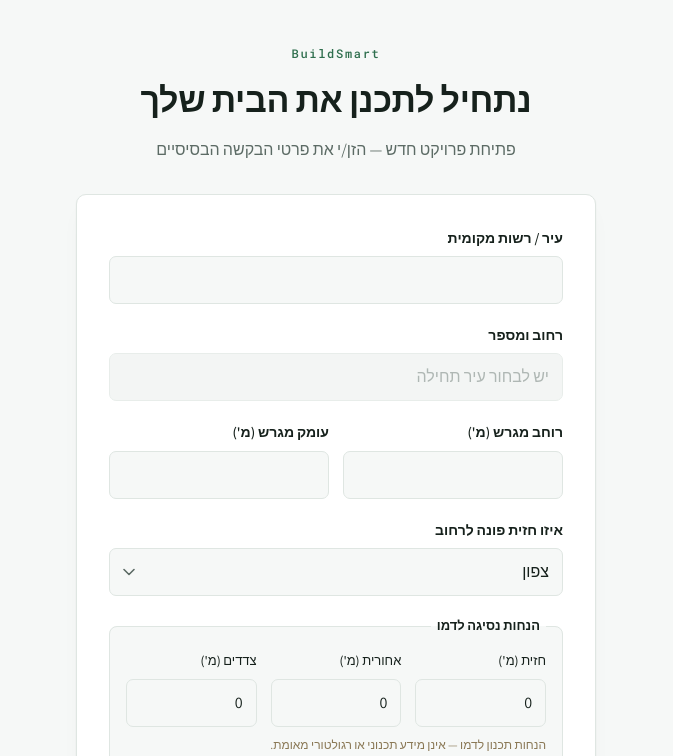
Scenario: App — brief + site -> the engine chooses the outline -> plan generation › going back to the description from REVIEW keeps everything the user entered
Type "תל אביב" into the dropdown labelled "עיר / רשות מקומית" at (336, 280), box [109,256,563,304]
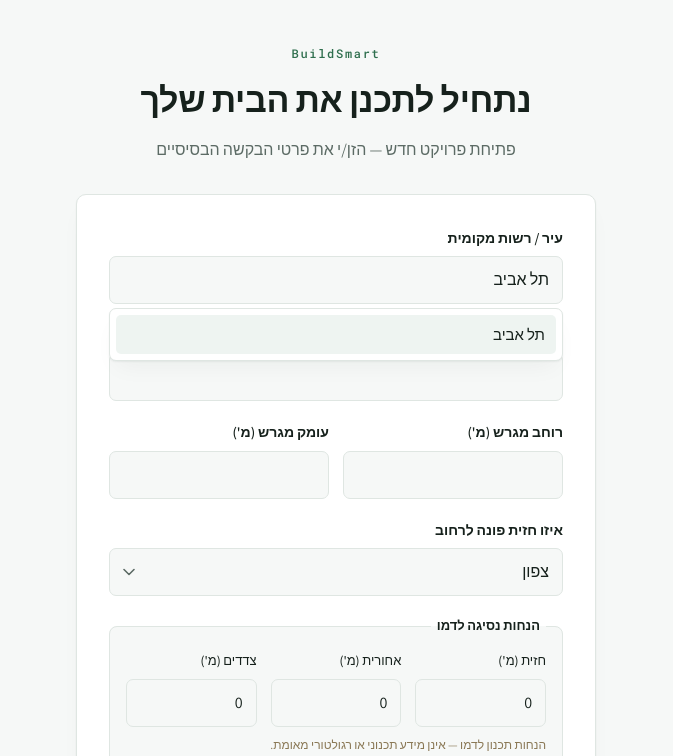
Result: the dropdown labelled "רחוב ומספר" is enabled
Type "הרצל 1" into the dropdown labelled "רחוב ומספר" at (336, 377), box [109,353,563,401]
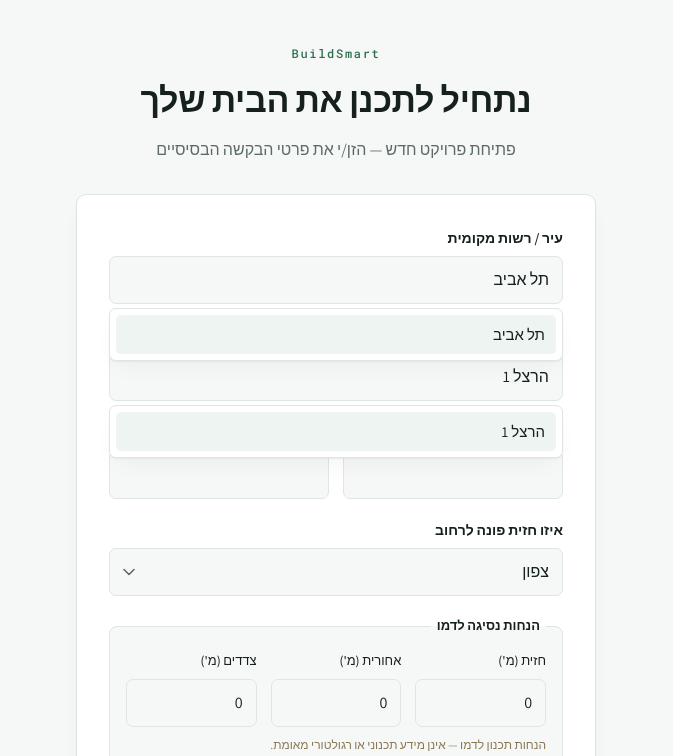
Type "30" into the number field labelled "רוחב מגרש (מ')" at (453, 475), box [343,451,563,499]
Type "34" into the number field labelled "עומק מגרש (מ')" at (219, 475), box [109,451,329,499]
(page scrolled)
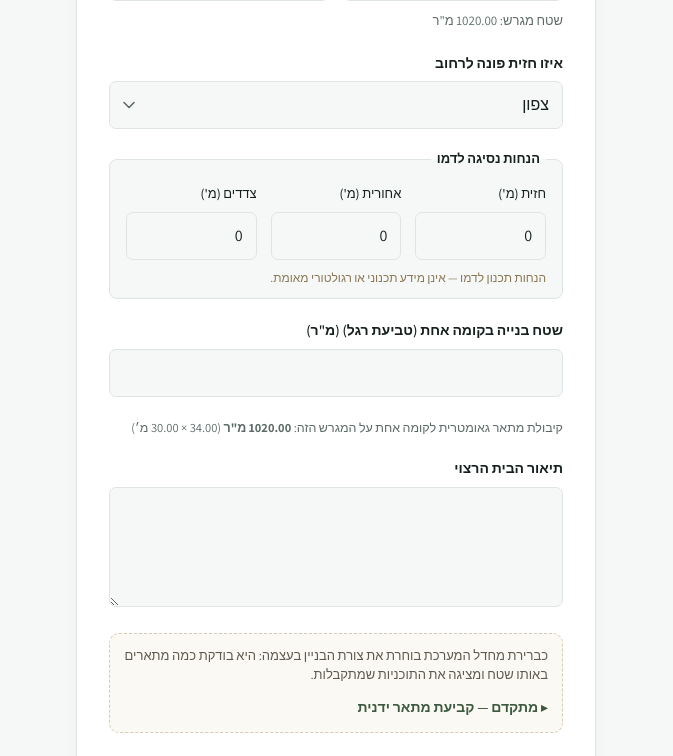
Type "120" into the number field labelled "שטח בנייה בקומה אחת (טביעת רגל) (מ\"ר)" at (336, 373), box [109,349,563,397]
Type "בית עם 3 חדרי שינה" into the text box labelled "תיאור הבית הרצוי" at (336, 547), box [109,487,563,607]
(page scrolled)
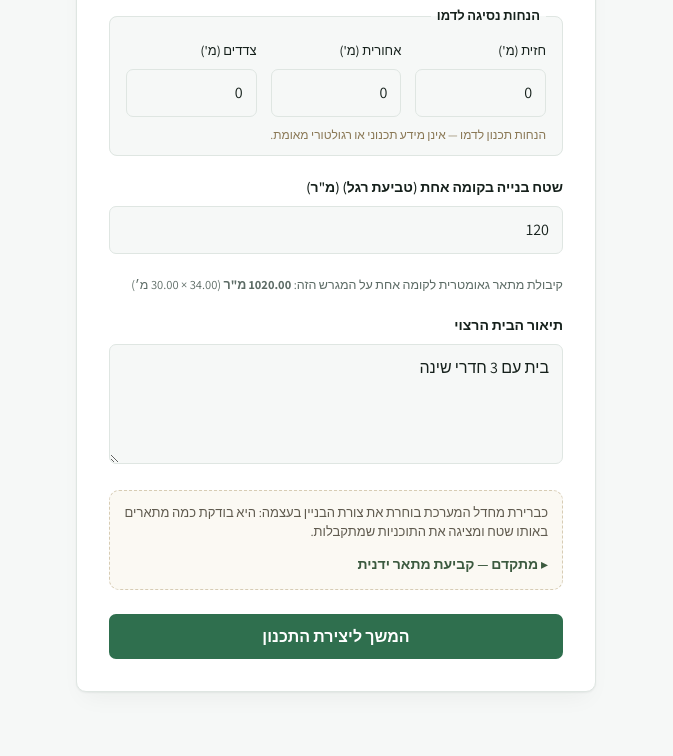
Click the button "המשך ליצירת התכנון" at (336, 636), box [109,614,563,659]
(page scrolled)
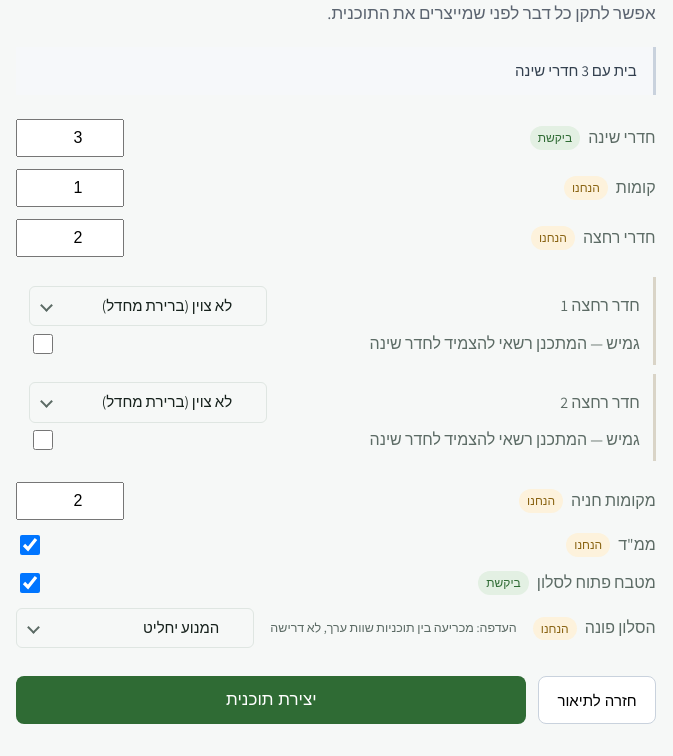
Click the button "חזרה לתיאור" at (597, 700), box [538,676,656,724]
(page scrolled)
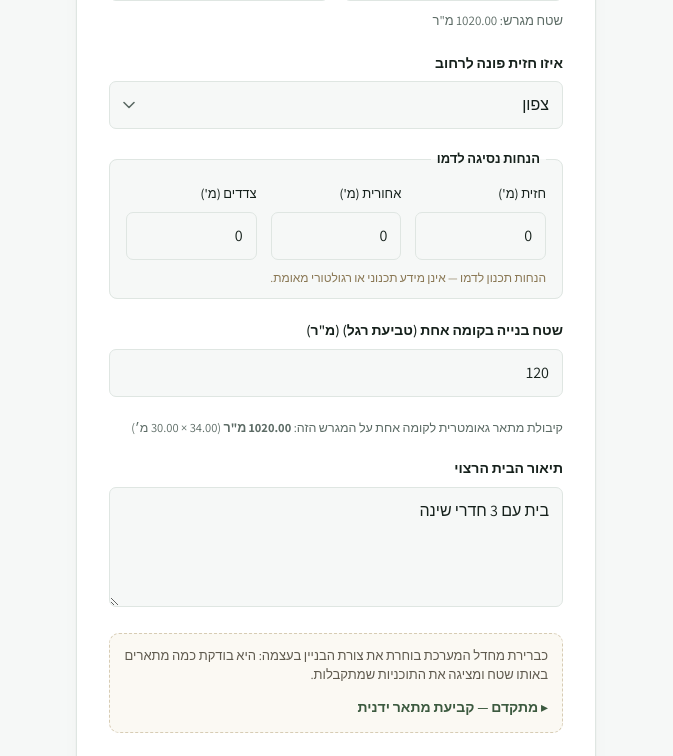
Result: the text box labelled "תיאור הבית הרצוי" holds "בית עם 3 חדרי שינה" at [109,487,563,607]
Result: the number field labelled "שטח בנייה בקומה אחת (טביעת רגל) (מ\"ר)" holds "120" at [109,349,563,397]
